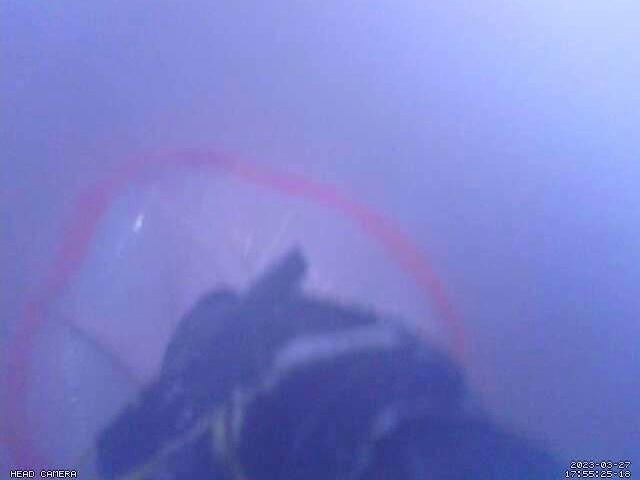head: (1, 145, 466, 480)
